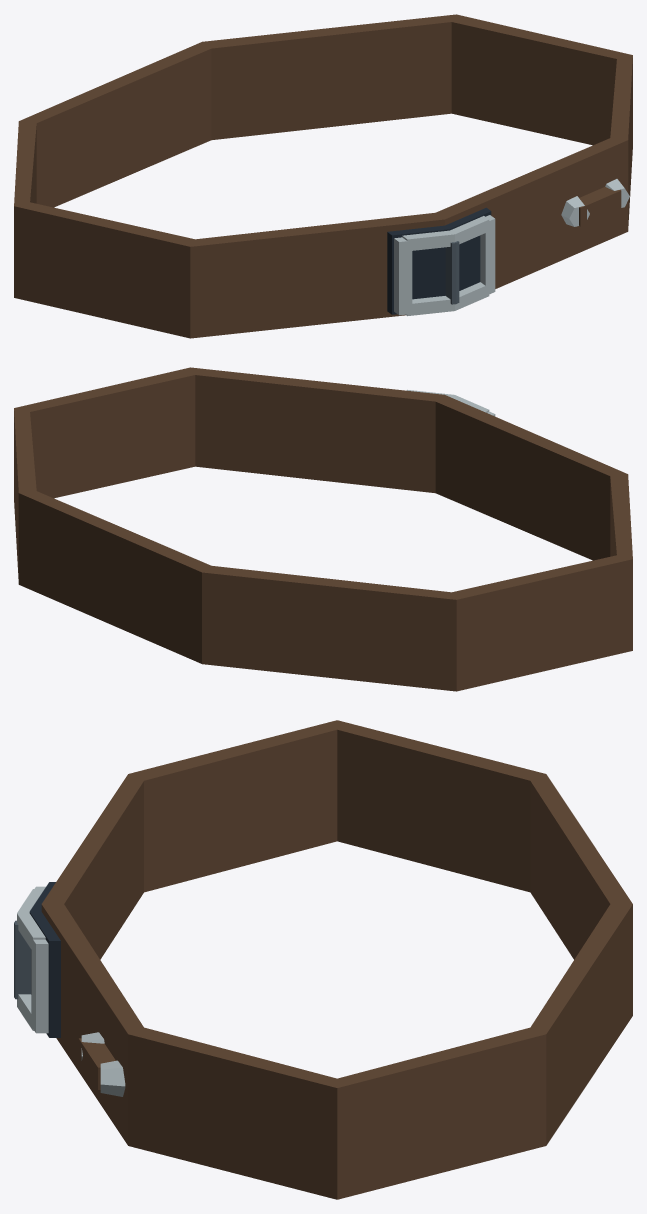
File: studded_waist-male-thickHide.glb
The picture shows the model from 3 angles, top to bottom: view 1: azimuth 30°, elevation 25°; view 2: azimuth 150°, elevation 25°; view 3: azimuth 270°, elevation 25°; orthographic projection. The views are drawn at different scales.
Parts seen in each view (by area): view 1: studded waist band, Buckle recessed backplate, Buckle side rail -0.145, Buckle cross rail 4.506, Buckle cross rail 4.294, Heavy hide binding studded waist band, Buckle side rail 0.145, Buckle pin, Set rivet studded waist band -1; view 2: studded waist band; view 3: studded waist band, Buckle recessed backplate, Buckle side rail 0.145, Buckle pin, Heavy hide binding studded waist band, Buckle cross rail 4.506, Set rivet studded waist band 1.
Part boxes in pixels (x1,y1,x2,y2): studded waist band: (14,14,632,338); Buckle recessed backplate: (387,207,491,314); Buckle side rail -0.145: (394,237,412,315); Buckle cross rail 4.506: (402,216,489,250); Buckle cross rail 4.294: (406,282,489,316); Heavy hide binding studded waist band: (579,187,621,226); Buckle side rail 0.145: (480,215,495,295); Buckle pin: (445,241,459,304); Set rivet studded waist band -1: (561,196,589,226); studded waist band: (14,367,632,691); studded waist band: (41,720,632,1199); Buckle recessed backplate: (29,882,60,1037); Buckle side rail 0.145: (31,937,48,1033); Buckle pin: (14,920,30,999); Heavy hide binding studded waist band: (78,1038,115,1089); Buckle cross rail 4.506: (17,889,45,948); Set rivet studded waist band 1: (100,1060,125,1096).
Bounding box in the file's own units: 2.12 × 0.3 × 1.51.
